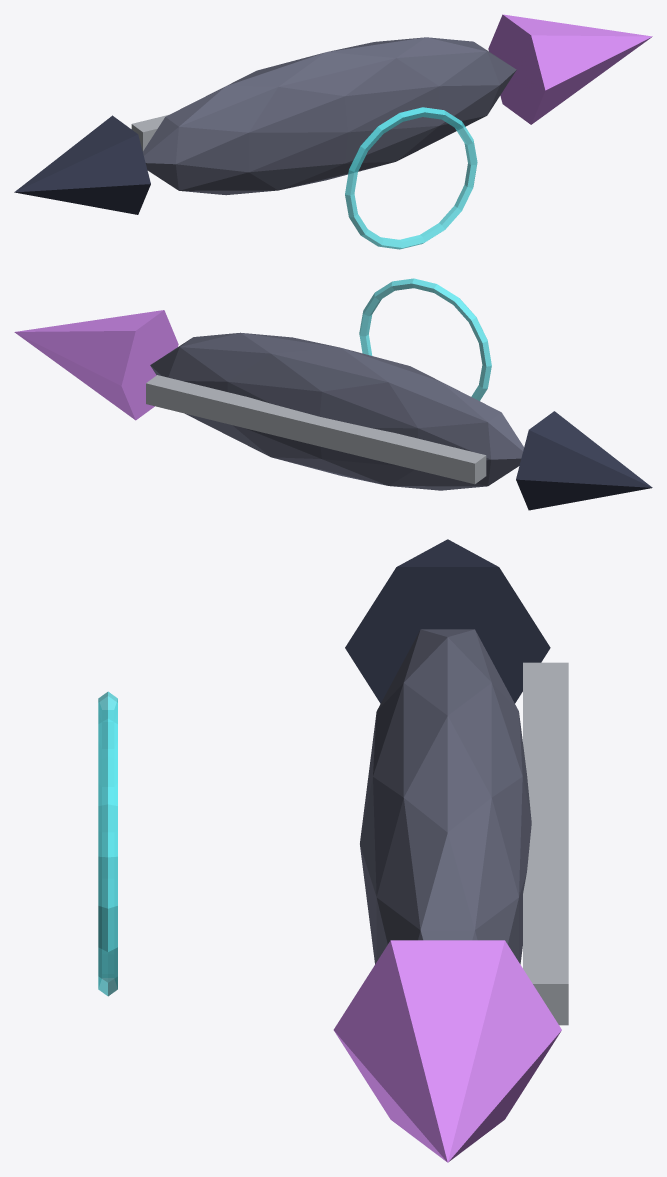
File: 05_skyship_hull.glb
3 renders of one model, top to bottom at view 1: azimuth 30°, elevation 25°; view 2: azimuth 150°, elevation 25°; view 3: azimuth 270°, elevation 25°, orthographic. The views are drawn at different scales.
Parts seen in each view (by area): view 1: hull_low_poly, bow_upgrade, stern_fin, size_class_ring, keel_plate; view 2: hull_low_poly, keel_plate, bow_upgrade, stern_fin, size_class_ring; view 3: hull_low_poly, bow_upgrade, stern_fin, keel_plate, size_class_ring.
Boxes of the visible parts, x1=… form: hull_low_poly: x1=143, y1=37, x2=516, y2=195; bow_upgrade: x1=488, y1=14, x2=652, y2=124; stern_fin: x1=14, y1=115, x2=150, y2=214; size_class_ring: x1=345, y1=107, x2=477, y2=249; keel_plate: x1=131, y1=115, x2=168, y2=151; hull_low_poly: x1=150, y1=332, x2=523, y2=490; keel_plate: x1=146, y1=375, x2=486, y2=484; bow_upgrade: x1=14, y1=310, x2=178, y2=420; stern_fin: x1=516, y1=411, x2=652, y2=510; size_class_ring: x1=359, y1=278, x2=491, y2=400; hull_low_poly: x1=360, y1=629, x2=531, y2=964; bow_upgrade: x1=333, y1=940, x2=561, y2=1162; stern_fin: x1=345, y1=539, x2=550, y2=703; keel_plate: x1=523, y1=662, x2=568, y2=1025; size_class_ring: x1=98, y1=691, x2=117, y2=996.
Bounding box in the file's own units: 4.52 × 0.9237 × 1.44.
